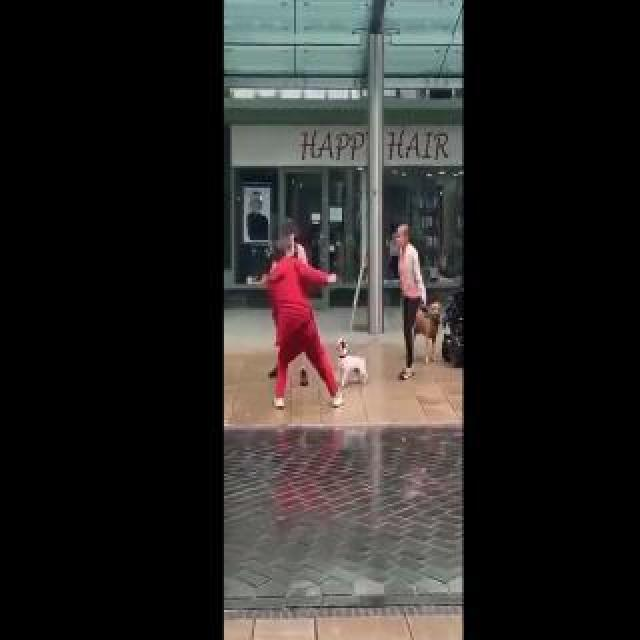fight: (253, 192, 363, 426)
